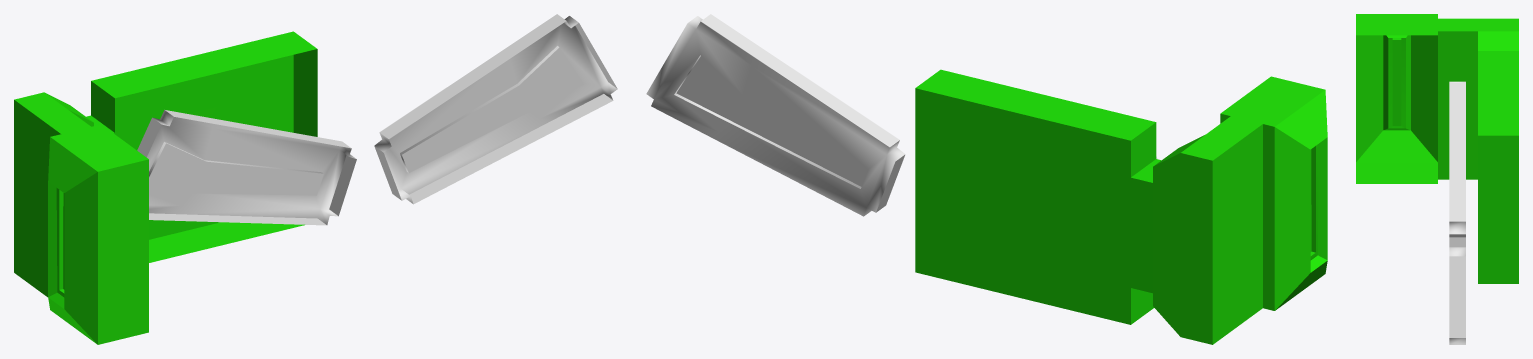
The model's file is DBZGreenGlasses.fbx.
3 renders of one model, left to right at view 1: azimuth 30°, elevation 25°; view 2: azimuth 150°, elevation 25°; view 3: azimuth 270°, elevation 25°, orthographic. The views are drawn at different scales.
Visible parts, largest first — view 1: Headset, AngryEyes; view 2: Headset, AngryEyes; view 3: Headset, AngryEyes.
Part boxes in pixels (x1=…): Headset: x1=14, y1=31, x2=317, y2=344; AngryEyes: x1=137, y1=14, x2=617, y2=225; Headset: x1=915, y1=69, x2=1327, y2=344; AngryEyes: x1=646, y1=14, x2=1157, y2=216; Headset: x1=1356, y1=14, x2=1518, y2=283; AngryEyes: x1=1449, y1=81, x2=1465, y2=344.
Size of the model in its own units: 107 by 30 by 29.81.
